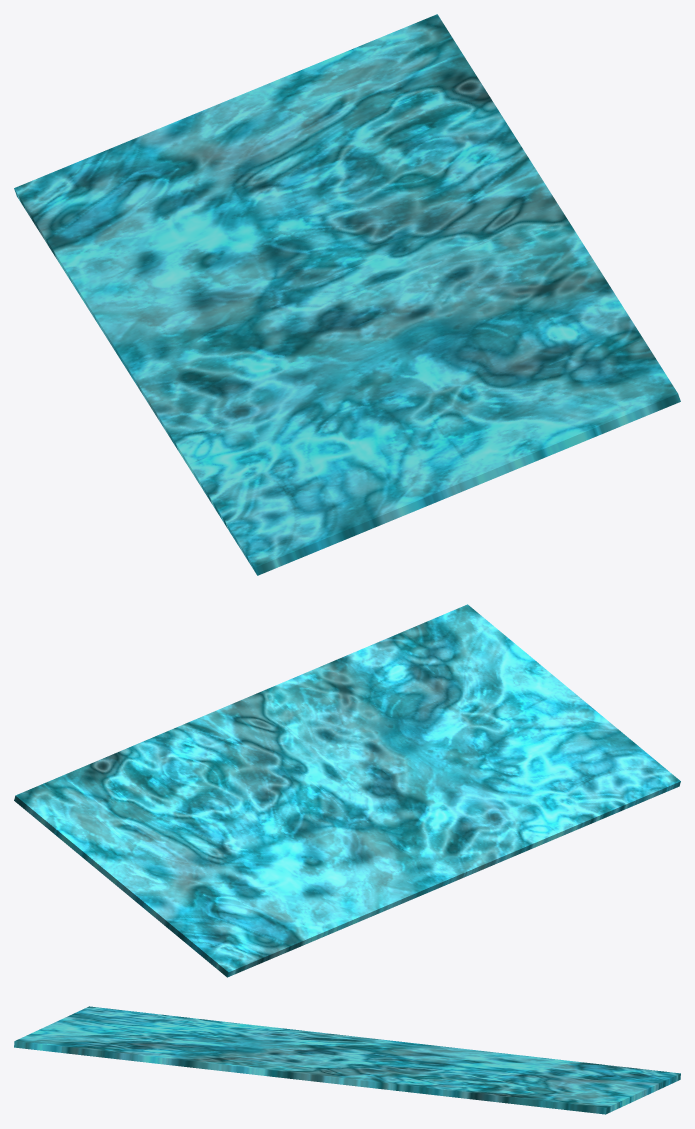
The model's file is water1.fbx.
3 renders of one model, top to bottom at view 1: azimuth 30°, elevation 25°; view 2: azimuth 150°, elevation 25°; view 3: azimuth 270°, elevation 25°, orthographic. The views are drawn at different scales.
Visible parts, largest first — view 1: Water1; view 2: Water1; view 3: Water1.
Boxes of the visible parts, left/top/right/bottom form: Water1: left=14, top=14, right=680, bottom=575; Water1: left=14, top=604, right=680, bottom=977; Water1: left=14, top=1006, right=680, bottom=1114.
Size of the model in its own units: 68.15 by 15.18 by 103.
1 material, 1 textured.
